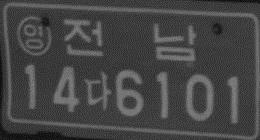0: (184, 72, 214, 122)
1: (148, 70, 179, 120), (218, 75, 247, 125), (15, 64, 45, 110)
4: (52, 66, 79, 112)
6: (114, 68, 145, 117)
다: (83, 70, 111, 111)
영: (16, 15, 52, 56)
전남_D: (62, 18, 197, 62)
